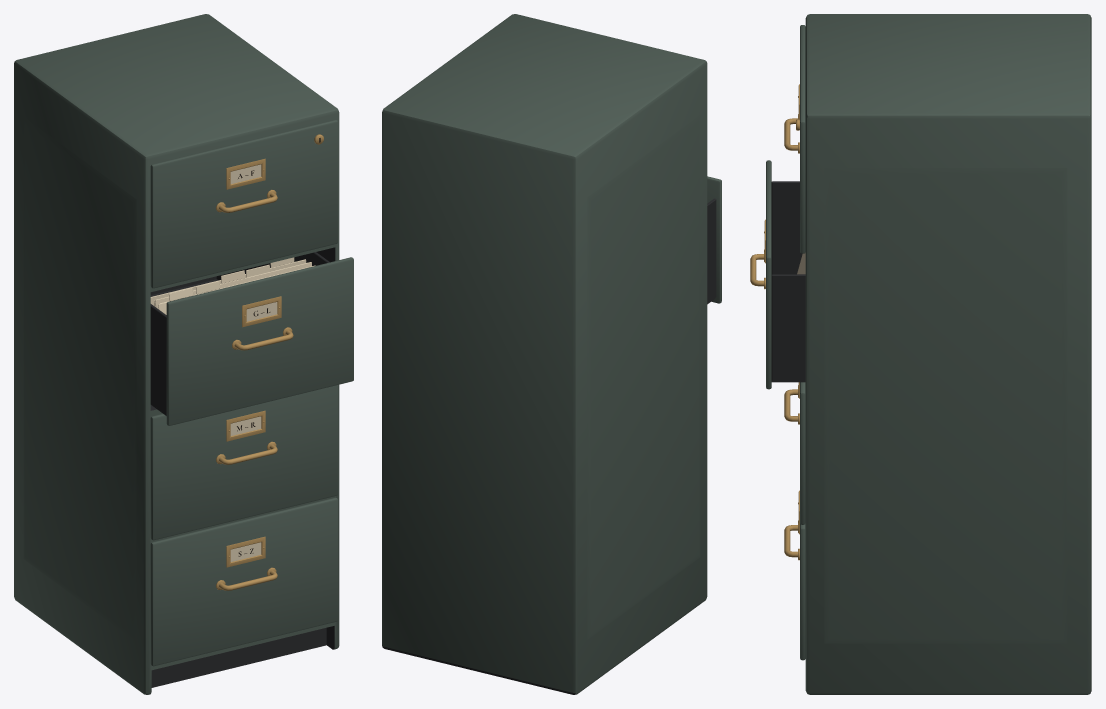
Rendered from filing_cabinet.glb.
3 renders of one model, left to right at view 1: azimuth 30°, elevation 25°; view 2: azimuth 150°, elevation 25°; view 3: azimuth 270°, elevation 25°, orthographic. The views are drawn at different scales.
Visible parts, largest first — view 1: filing_cabinet_body; view 2: filing_cabinet_body; view 3: filing_cabinet_body.
Boxes of the visible parts, x1,y1,x2,y2 form: filing_cabinet_body: (14, 14, 353, 694); filing_cabinet_body: (382, 14, 721, 694); filing_cabinet_body: (750, 14, 1091, 694).
Size of the model in its own units: 0.506 by 1.32 by 0.7021.
